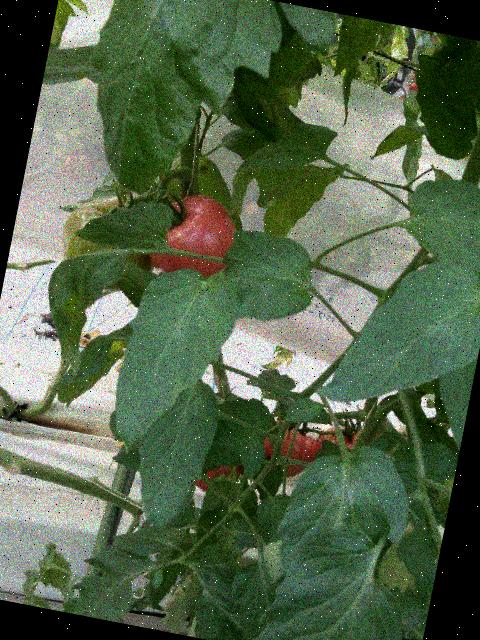b_fully_ripened: (145, 186, 244, 285), (257, 417, 323, 483)
b_green: (51, 186, 166, 299), (421, 465, 455, 529)
